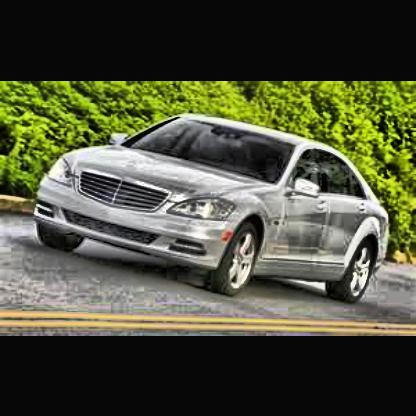Mercedes-Benz S-Class Sedan 2012: (34, 108, 393, 306)
